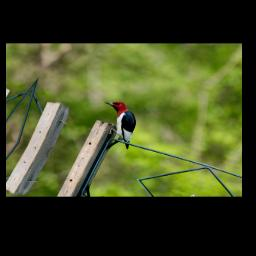Woodpecker: (87, 97, 149, 150)
